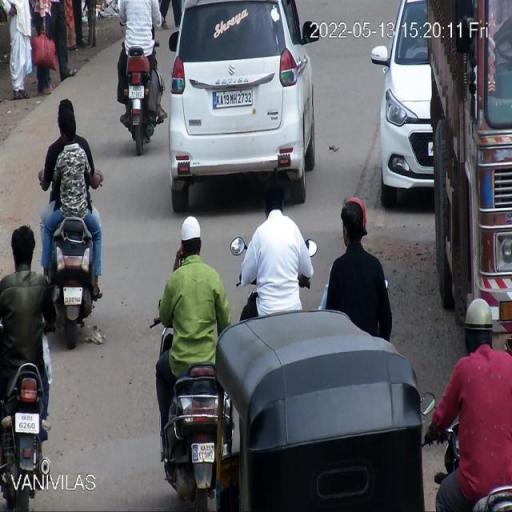using mobile: (174, 240, 186, 266)
